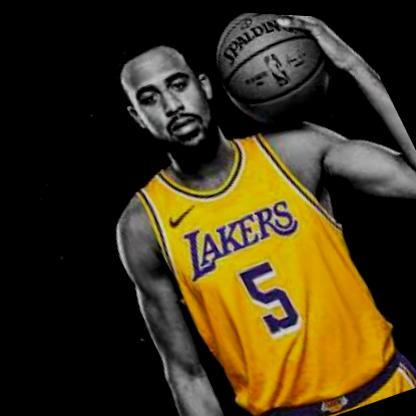basketball: (193, 8, 348, 139)
